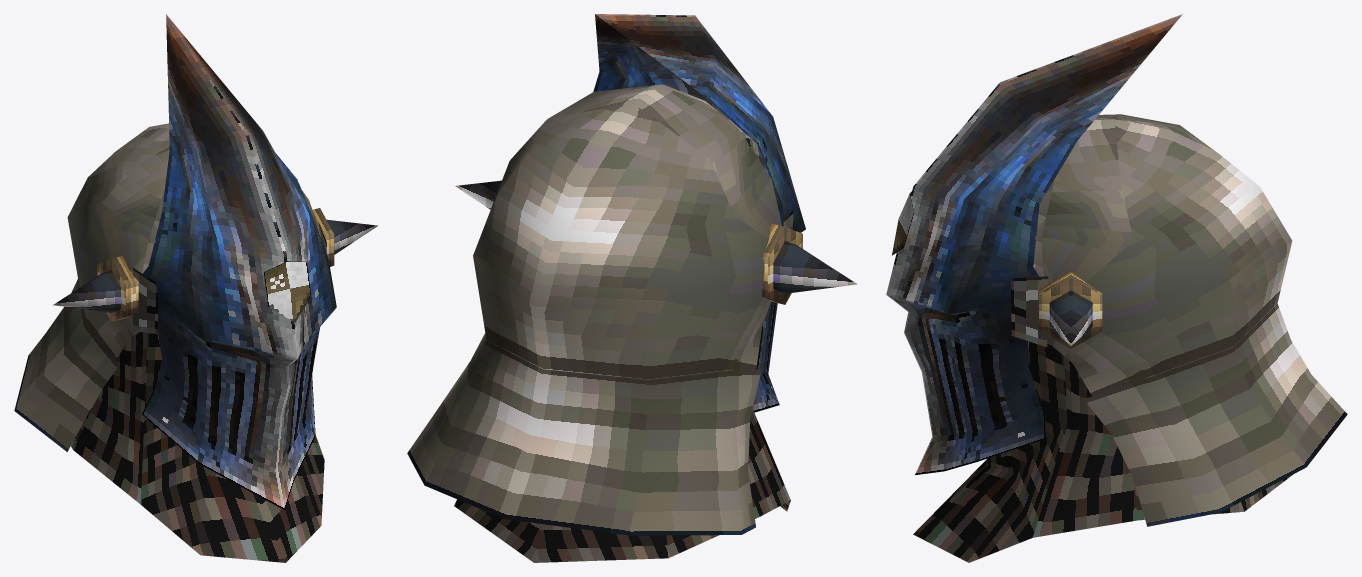
Rendered from m_helmet161.obj.
The picture shows the model from 3 angles, left to right: view 1: azimuth 30°, elevation 25°; view 2: azimuth 150°, elevation 25°; view 3: azimuth 270°, elevation 25°; orthographic projection. The views are drawn at different scales.
Parts seen in each view (by area): view 1: mesh02, mesh01; view 2: mesh02; view 3: mesh02, mesh01.
Part boxes in pixels (<box>): mesh02: <box>14,14,377,562</box>; mesh01: <box>264,261,311,322</box>; mesh02: <box>407,14,857,562</box>; mesh02: <box>886,14,1347,562</box>; mesh01: <box>892,191,914,255</box>.
Bounding box in the file's own units: 26.53 × 35.9 × 28.85.
Materials: 3 (3 with a texture image).
